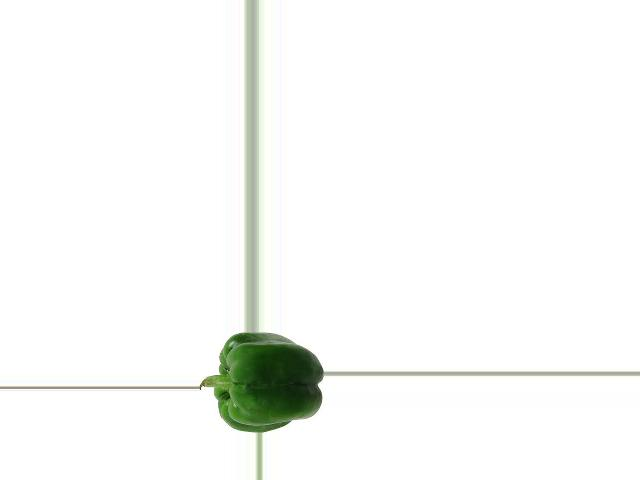bell_pepper: (201, 334, 324, 432)
